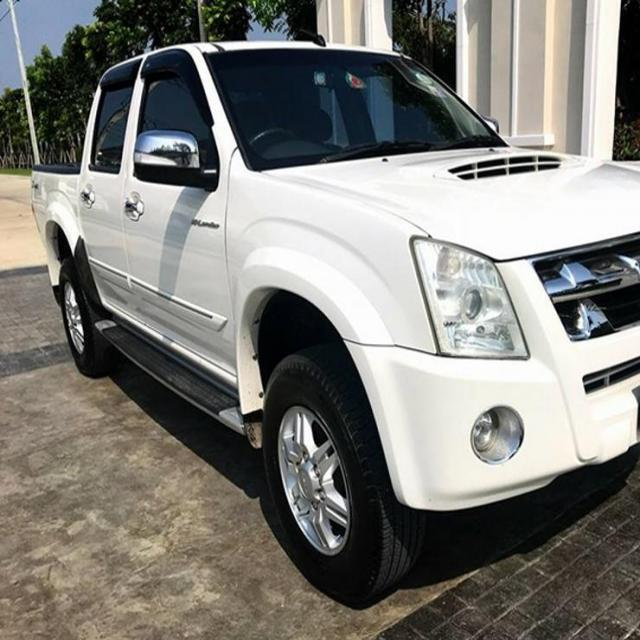back_right_door: (79, 56, 143, 324)
front_bumper: (346, 232, 639, 511)
front_glass: (203, 48, 511, 169)
front_right_door: (120, 43, 237, 373)
front_right_light: (408, 234, 529, 362)
hood: (264, 146, 639, 261)
right_mirror: (133, 129, 221, 191)
trunk: (30, 165, 80, 284)
wheel: (261, 343, 424, 602), (58, 255, 119, 378)
